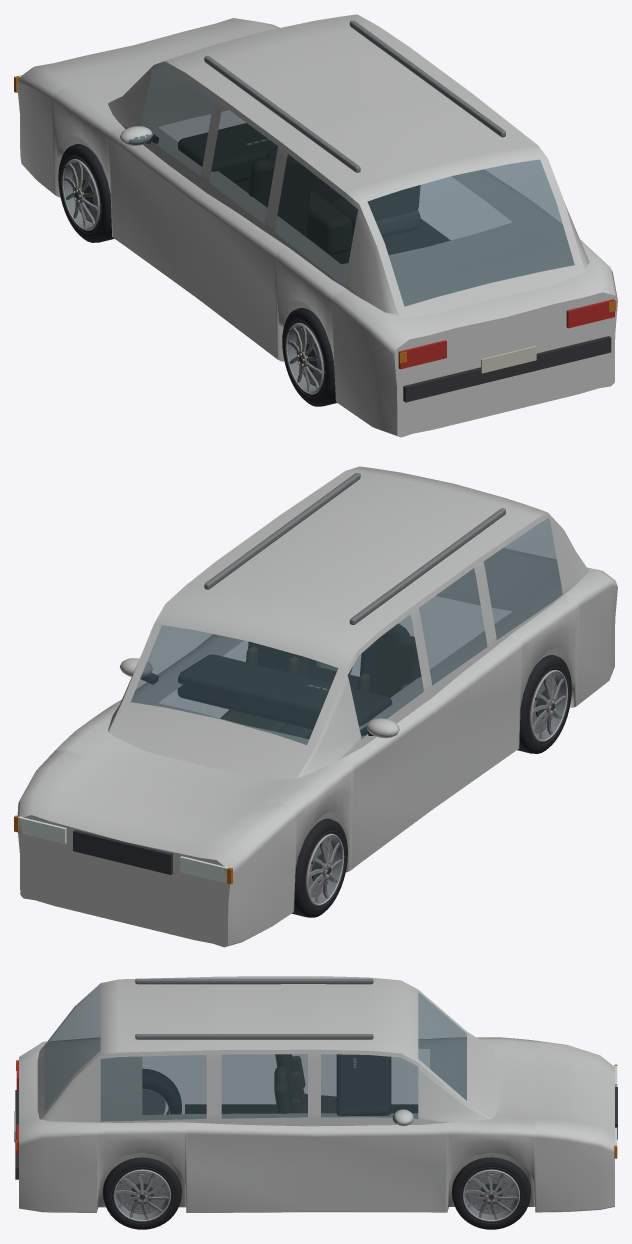
File: monterey.glb
3 views of the same model, one above another, from view 1: azimuth 30°, elevation 25°; view 2: azimuth 150°, elevation 25°; view 3: azimuth 270°, elevation 25° (orthographic). The views are drawn at different scales.
Visible parts, largest first — view 1: paint, glass, trim, wheelSurface (×2), brake; view 2: paint, glass, trim, wheelSurface (×2), head; view 3: paint, glass, wheelSurface (×3), trim.
Boxes of the visible parts, box(x1,y1,x2,y2) form: paint: box(17, 14, 617, 437); glass: box(128, 66, 574, 306); trim: box(145, 20, 611, 402); wheelSurface (×2): box(58, 144, 336, 406); brake: box(398, 299, 614, 369); paint: box(17, 466, 617, 947); glass: box(131, 518, 562, 744); trim: box(73, 473, 505, 874); wheelSurface (×2): box(292, 655, 571, 917); head: box(18, 816, 228, 883); paint: box(19, 976, 614, 1212); glass: box(44, 986, 466, 1123); wheelSurface (×3): box(103, 1069, 530, 1229); trim: box(14, 978, 617, 1179).
Bounding box in the file's own units: 2.02 × 1.6 × 4.9.
